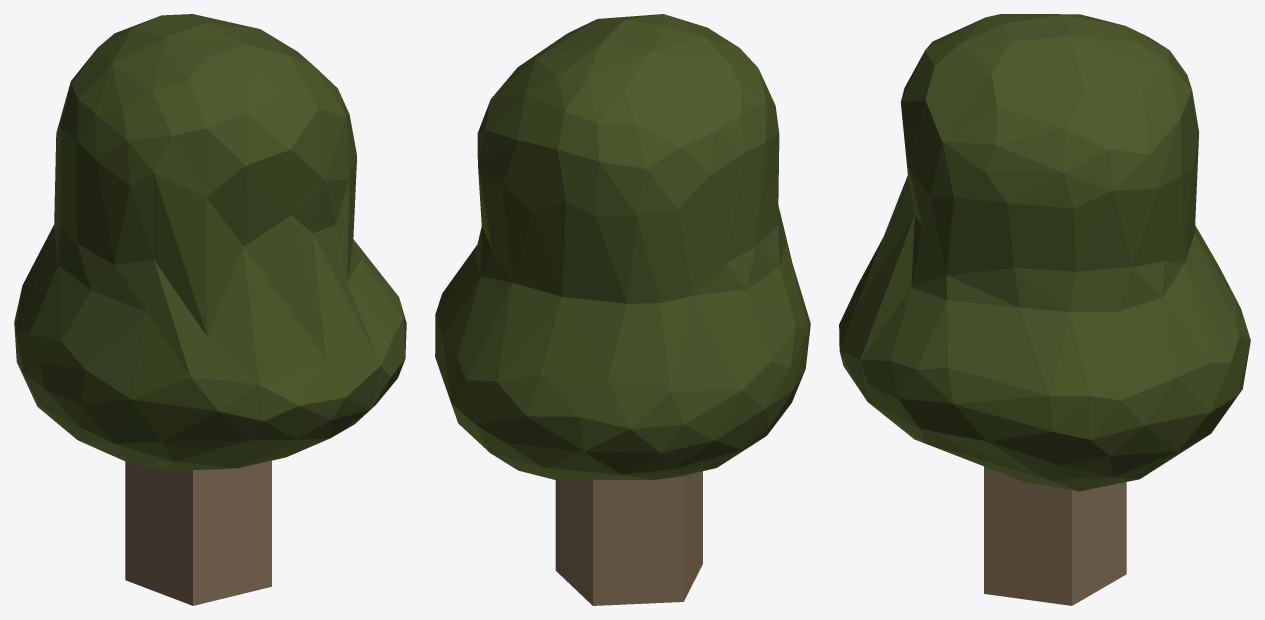
The model's file is arbol 1final nivel 1 .fbx.
The picture shows the model from 3 angles, left to right: view 1: azimuth 30°, elevation 25°; view 2: azimuth 150°, elevation 25°; view 3: azimuth 270°, elevation 25°; orthographic projection.
Parts seen in each view (by area): view 1: arbol.004; view 2: arbol.004; view 3: arbol.004.
Boxes of the visible parts, x1=… form: arbol.004: x1=14, y1=14, x2=406, y2=605; arbol.004: x1=435, y1=14, x2=810, y2=605; arbol.004: x1=839, y1=14, x2=1250, y2=605.
Bounding box in the file's own units: 238 × 365 × 249.
